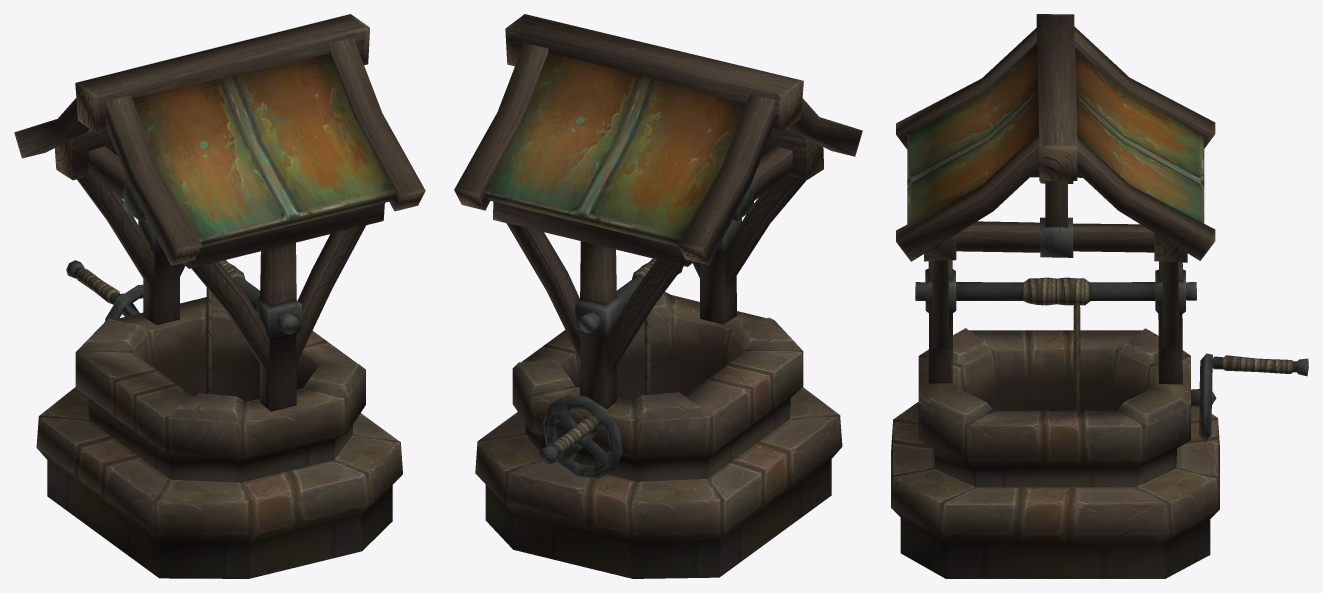
The picture shows the model from 3 angles, left to right: view 1: azimuth 30°, elevation 25°; view 2: azimuth 150°, elevation 25°; view 3: azimuth 270°, elevation 25°; orthographic projection. The views are drawn at different scales.
Size of the model in its own units: 2.87 by 4.48 by 3.81.
Materials: 1 (1 with a texture image).
